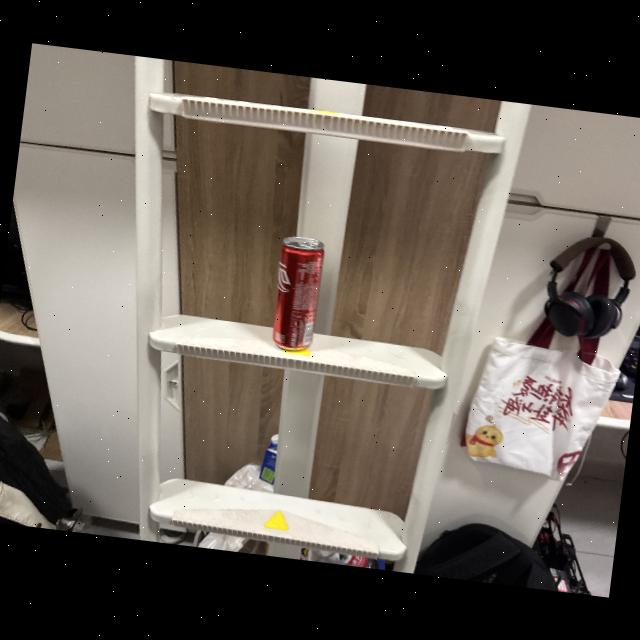Cola: (255, 227, 332, 362)
